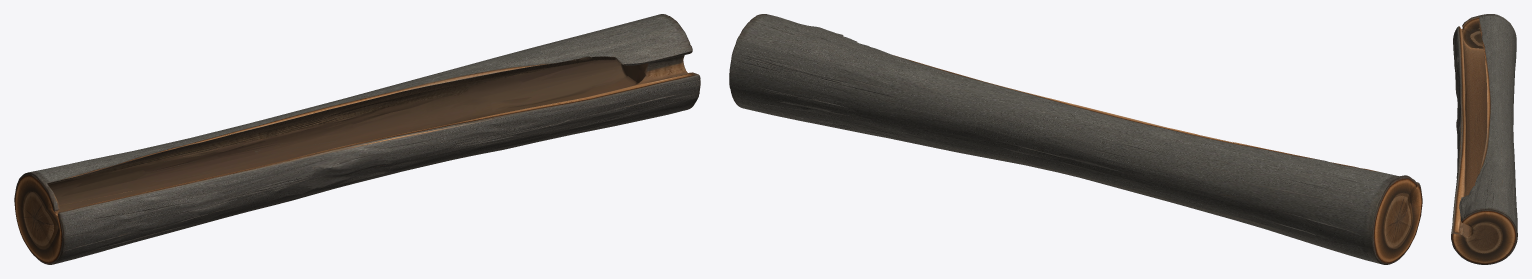
The model's file is pond_trough.glb.
3 views of the same model, side by side, from view 1: azimuth 30°, elevation 25°; view 2: azimuth 150°, elevation 25°; view 3: azimuth 270°, elevation 25° (orthographic). The views are drawn at different scales.
Parts seen in each view (by area): view 1: pond_trough_0; view 2: pond_trough_0; view 3: pond_trough_0.
Boxes of the visible parts, x1,y1,x2,y2 form: pond_trough_0: (14, 14, 700, 264); pond_trough_0: (729, 14, 1422, 264); pond_trough_0: (1451, 14, 1517, 264).
Size of the model in its own units: 4.6 by 0.6 by 0.65.
Materials: 1 (1 with a texture image).
